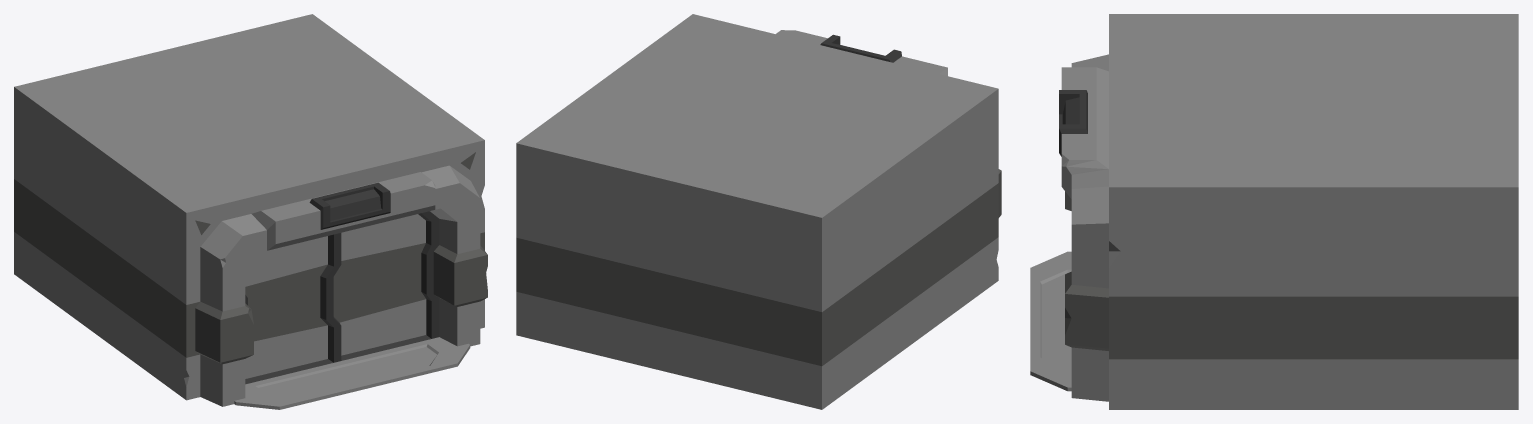
File: bld_section_door_06.fbx
The picture shows the model from 3 angles, left to right: view 1: azimuth 30°, elevation 25°; view 2: azimuth 150°, elevation 25°; view 3: azimuth 270°, elevation 25°; orthographic projection. The views are drawn at different scales.
Visible parts, largest first — view 1: SM_Bld_Section_Door_06; view 2: SM_Bld_Section_Door_06; view 3: SM_Bld_Section_Door_06.
Boxes of the visible parts, x1,y1,x2,y2 form: SM_Bld_Section_Door_06: (14, 14, 487, 409); SM_Bld_Section_Door_06: (516, 14, 1001, 409); SM_Bld_Section_Door_06: (1030, 14, 1518, 409).
Size of the model in its own units: 500 by 300 by 596.
